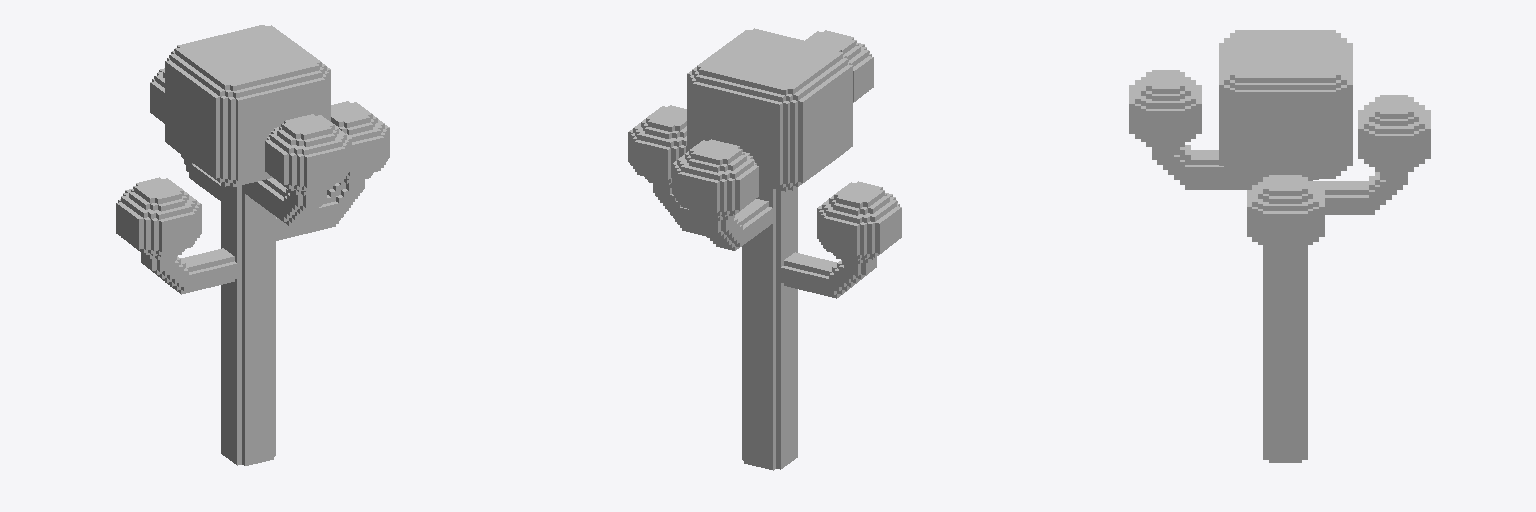
The model's file is tree1.obj.
3 views of the same model, side by side, from view 1: azimuth 30°, elevation 25°; view 2: azimuth 150°, elevation 25°; view 3: azimuth 270°, elevation 25° (orthographic).
Parts seen in each view (by area): view 1: object 1; view 2: object 1; view 3: object 1.
Part boxes in pixels (x1,y1,x2,y2): object 1: (116, 25, 389, 465); object 1: (628, 28, 901, 470); object 1: (1129, 30, 1430, 462).
Size of the model in its own units: 5.2 by 7.9 by 5.4.